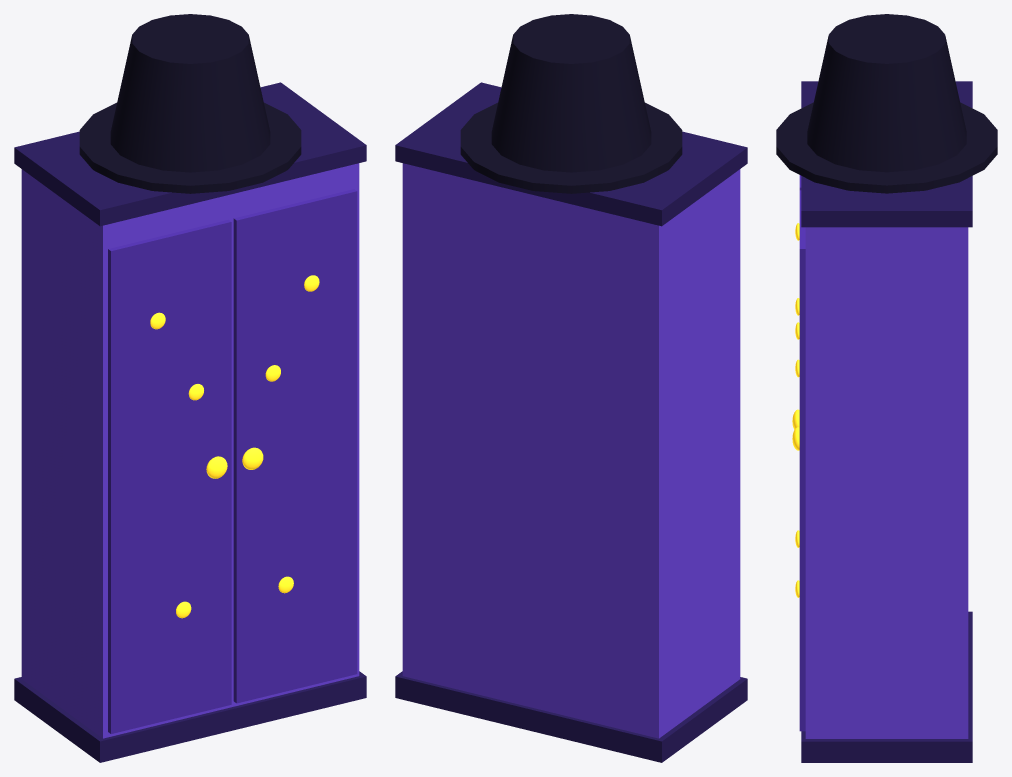
File: wardrobe_fun_1.glb
3 renders of one model, left to right at view 1: azimuth 30°, elevation 25°; view 2: azimuth 150°, elevation 25°; view 3: azimuth 270°, elevation 25°, orthographic.
Bounding box in the file's own units: 1.04 × 2.46 × 0.7485.
